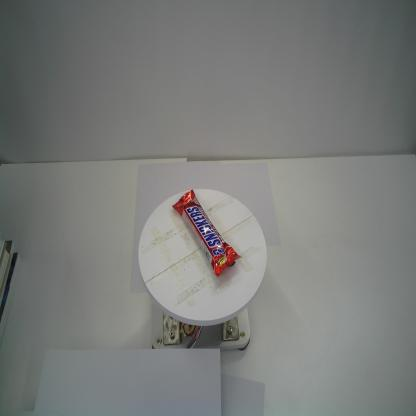Chocolate: (172, 189, 241, 277)
